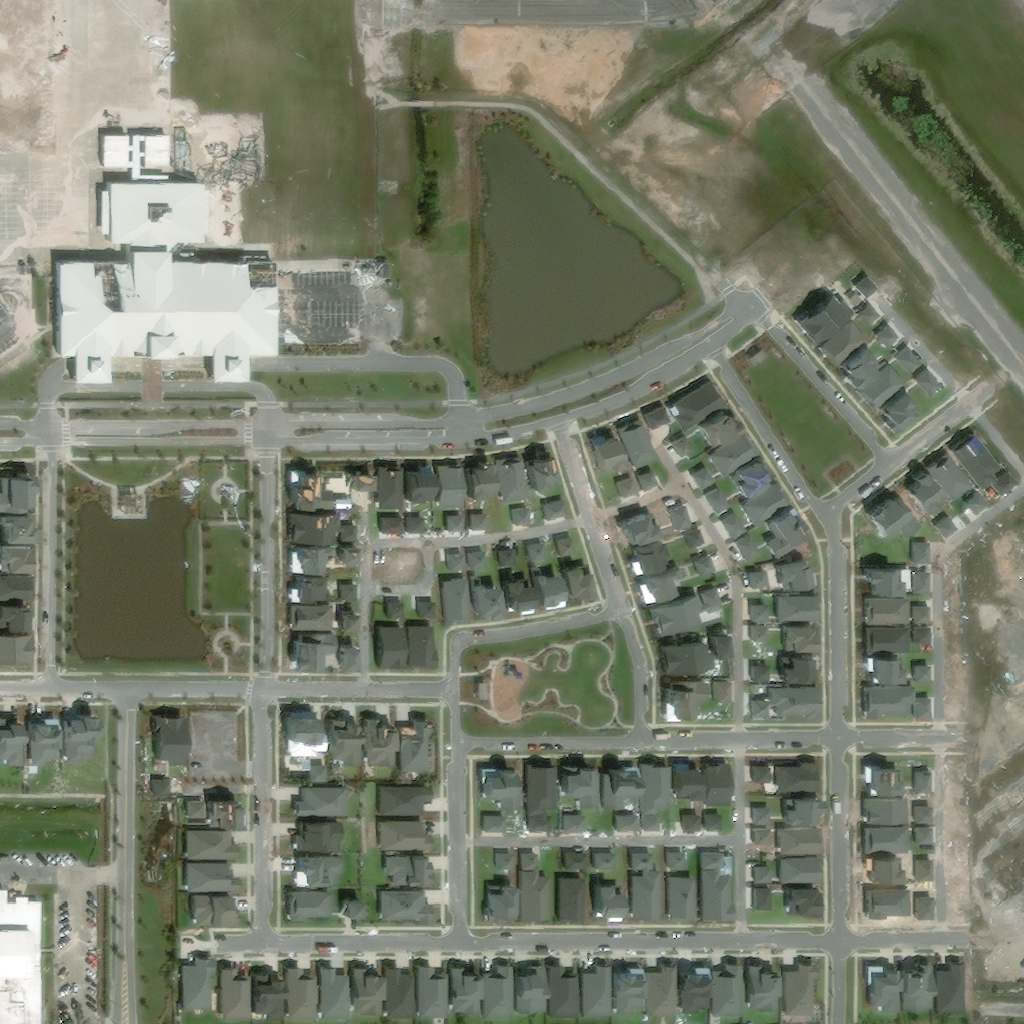major_damage: (63, 179, 291, 386), (298, 473, 344, 508), (536, 457, 569, 490), (365, 261, 401, 281), (352, 476, 375, 491)
minor_damage: (0, 890, 51, 1024), (159, 712, 255, 782), (339, 718, 406, 770), (408, 720, 444, 775), (298, 512, 345, 543), (216, 800, 254, 829), (5, 515, 46, 541), (351, 544, 370, 565)
no_damage: (960, 434, 1024, 503), (612, 763, 681, 817), (603, 423, 667, 475), (807, 296, 865, 347), (511, 574, 577, 617), (683, 383, 737, 433), (873, 498, 936, 540), (717, 432, 771, 478), (660, 592, 716, 636), (937, 452, 984, 503), (709, 853, 743, 921), (773, 510, 820, 559), (826, 323, 876, 368), (639, 852, 670, 921), (295, 711, 337, 759), (528, 855, 558, 922), (385, 822, 441, 856), (0, 475, 48, 514), (647, 567, 695, 605), (671, 683, 717, 722), (669, 643, 723, 676), (488, 767, 526, 813), (228, 966, 260, 1020), (489, 964, 521, 1018), (873, 965, 908, 1014), (590, 964, 621, 1019), (756, 962, 790, 1012), (720, 963, 752, 1016), (293, 967, 325, 1020), (944, 958, 974, 1014), (189, 955, 219, 1011), (299, 634, 345, 670), (193, 865, 250, 894), (534, 765, 567, 815), (301, 787, 356, 817), (387, 892, 442, 922), (557, 966, 588, 1019), (262, 969, 293, 1022), (37, 715, 68, 768), (199, 895, 250, 927), (387, 789, 443, 818), (194, 831, 248, 861), (359, 966, 392, 1015), (656, 964, 687, 1016), (792, 964, 823, 1016), (328, 968, 359, 1020), (909, 961, 941, 1011), (624, 966, 656, 1016), (569, 767, 608, 808), (427, 966, 457, 1019), (393, 857, 441, 890), (710, 411, 754, 447), (524, 965, 557, 1013), (503, 458, 538, 503), (493, 879, 529, 922), (0, 723, 35, 767), (782, 763, 833, 793), (481, 580, 515, 625), (460, 965, 489, 1017), (449, 581, 482, 626), (853, 348, 891, 387), (687, 970, 718, 1017), (0, 634, 44, 667), (300, 822, 351, 850), (639, 543, 681, 577), (870, 827, 916, 858), (304, 859, 351, 889), (295, 893, 341, 923), (395, 966, 422, 1017), (297, 604, 343, 632), (414, 624, 443, 668), (785, 560, 827, 590), (564, 876, 592, 921), (679, 763, 713, 800), (873, 596, 917, 624), (791, 624, 830, 655), (1, 575, 43, 603), (872, 628, 918, 653), (786, 859, 829, 885), (785, 597, 831, 621), (602, 885, 636, 916), (576, 567, 606, 602), (877, 568, 917, 594), (675, 877, 697, 924), (6, 544, 44, 571), (4, 605, 40, 633), (971, 493, 1000, 527), (880, 658, 919, 683), (793, 799, 826, 825), (791, 655, 822, 682), (883, 325, 916, 350), (697, 467, 726, 493), (744, 536, 770, 564), (307, 546, 333, 572), (306, 577, 334, 601), (158, 780, 195, 798), (678, 436, 704, 460), (718, 635, 743, 658), (652, 410, 680, 430), (691, 528, 714, 552), (918, 543, 940, 567), (864, 276, 886, 300), (551, 500, 574, 522), (865, 305, 888, 327), (570, 852, 595, 872), (645, 472, 668, 493), (626, 479, 648, 500), (349, 647, 367, 672), (535, 818, 561, 835), (721, 684, 743, 704), (710, 592, 730, 614), (600, 852, 623, 871), (502, 853, 523, 873), (534, 546, 556, 564), (922, 571, 940, 593), (349, 612, 371, 630), (572, 816, 595, 833), (564, 538, 583, 558), (704, 559, 724, 578), (757, 664, 778, 682), (492, 817, 515, 833), (506, 549, 525, 568), (519, 507, 537, 527), (756, 605, 776, 623), (348, 524, 366, 544), (423, 602, 444, 619), (455, 553, 474, 571), (195, 803, 214, 821), (922, 626, 940, 645), (921, 605, 940, 623), (353, 901, 373, 918), (624, 816, 644, 833), (759, 627, 779, 644), (690, 816, 711, 832), (756, 574, 778, 589), (762, 868, 780, 886), (478, 553, 496, 571), (675, 853, 694, 870), (650, 815, 669, 832), (349, 584, 366, 602), (923, 828, 941, 845), (759, 767, 778, 783), (318, 766, 335, 783), (761, 808, 778, 825), (922, 666, 940, 682), (486, 683, 498, 704)
